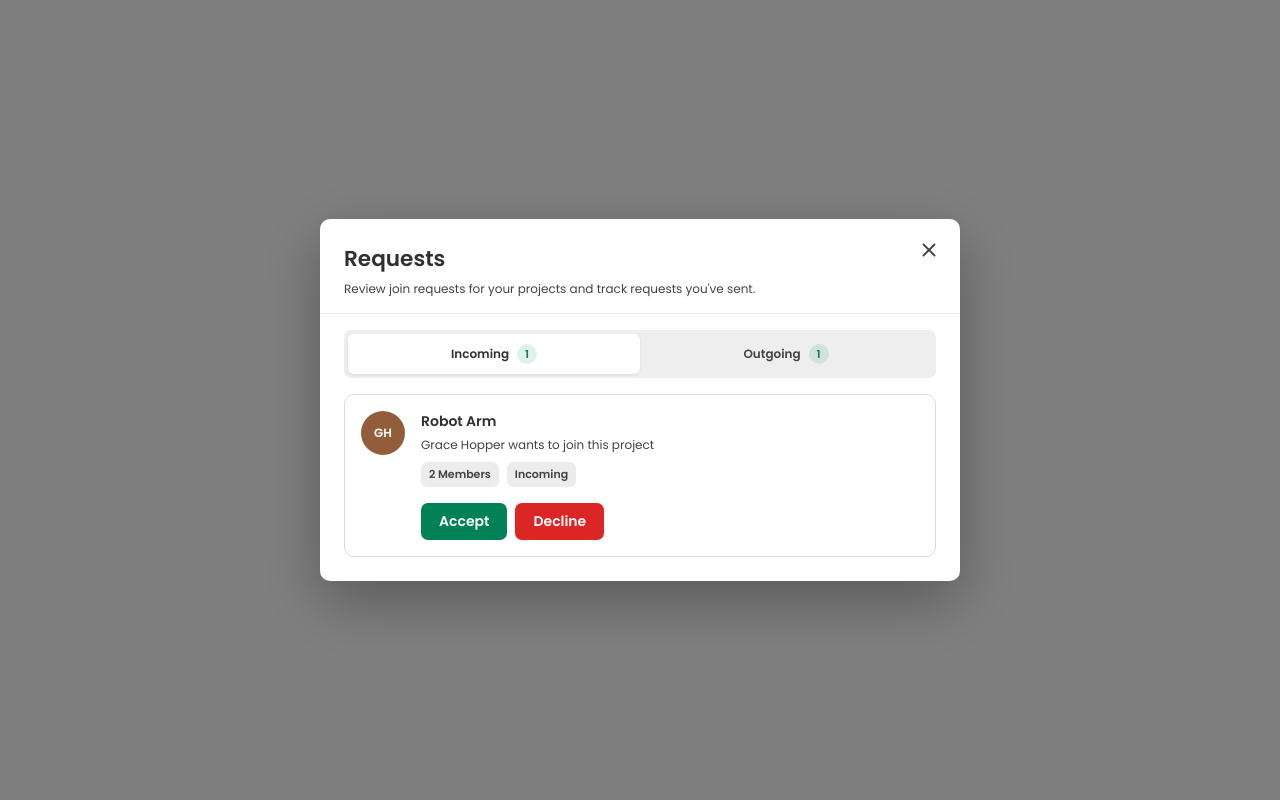
it: RequestsModal › keeps the error from a failed Dismiss after the reload
Click the tab "Outgoing 1" at (786,354), box [640,334,932,374]
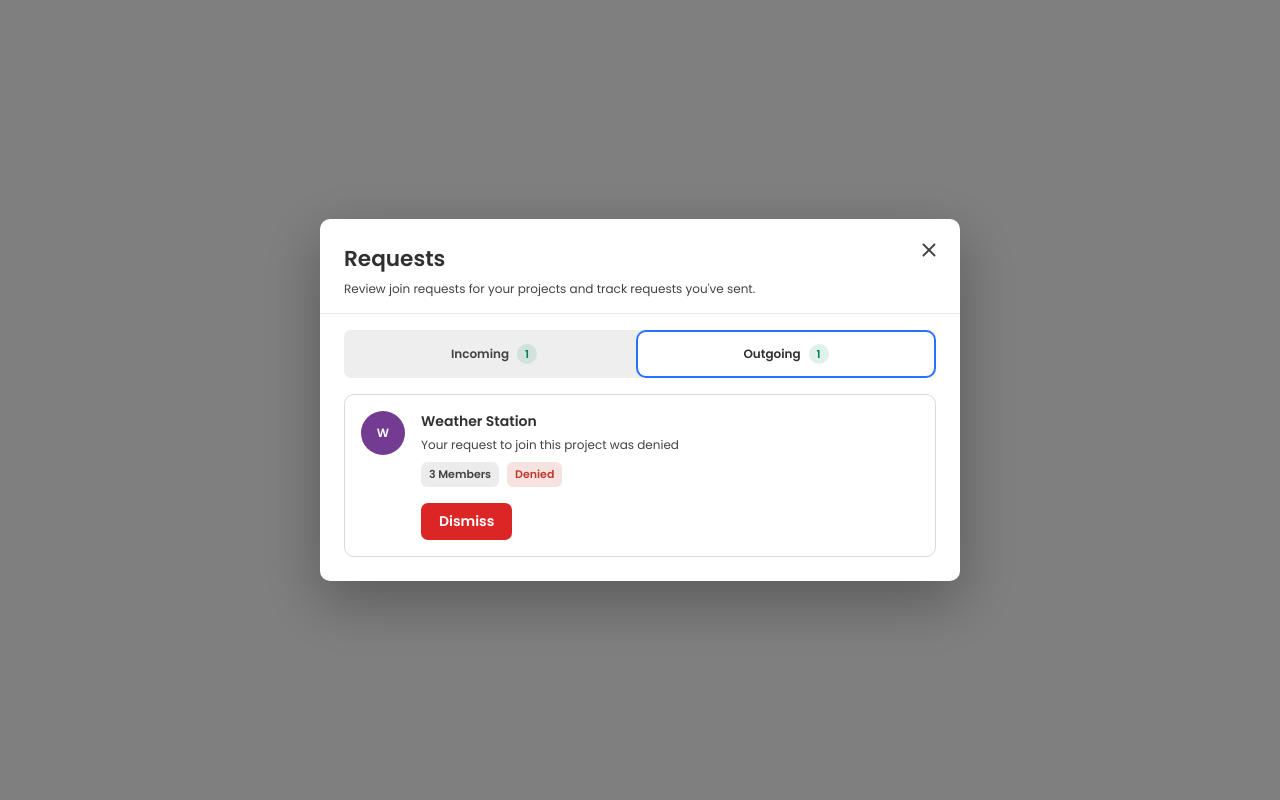
Click the button "Dismiss" at (467,521), box [421,503,512,540]
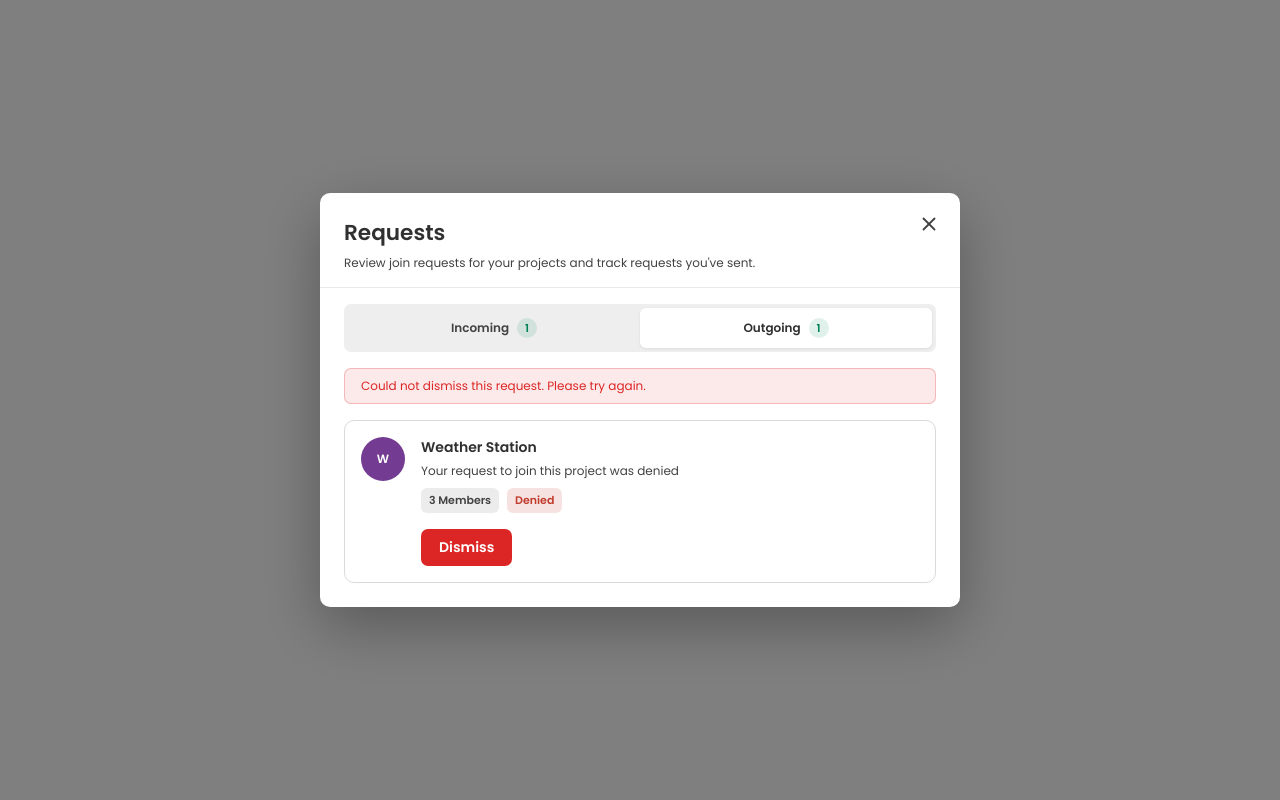
Expected: the button "Dismiss" is enabled, [421,529,512,566]
Expected: the text "Could not dismiss this request. Please try again." is shown, [344,368,936,404]
